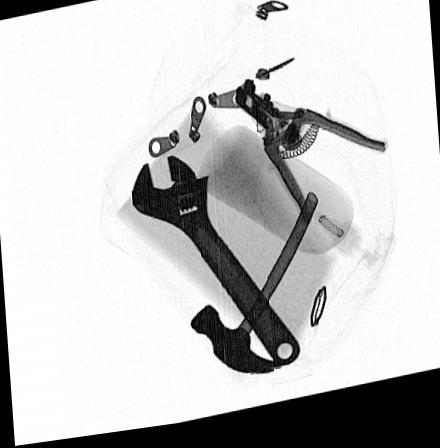Hammer: (190, 200, 322, 382)
Pliers: (233, 84, 388, 237)
Wrench: (132, 158, 298, 375)
